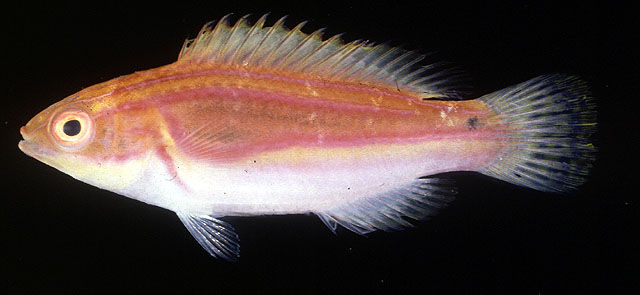fish: (17, 13, 599, 261)
